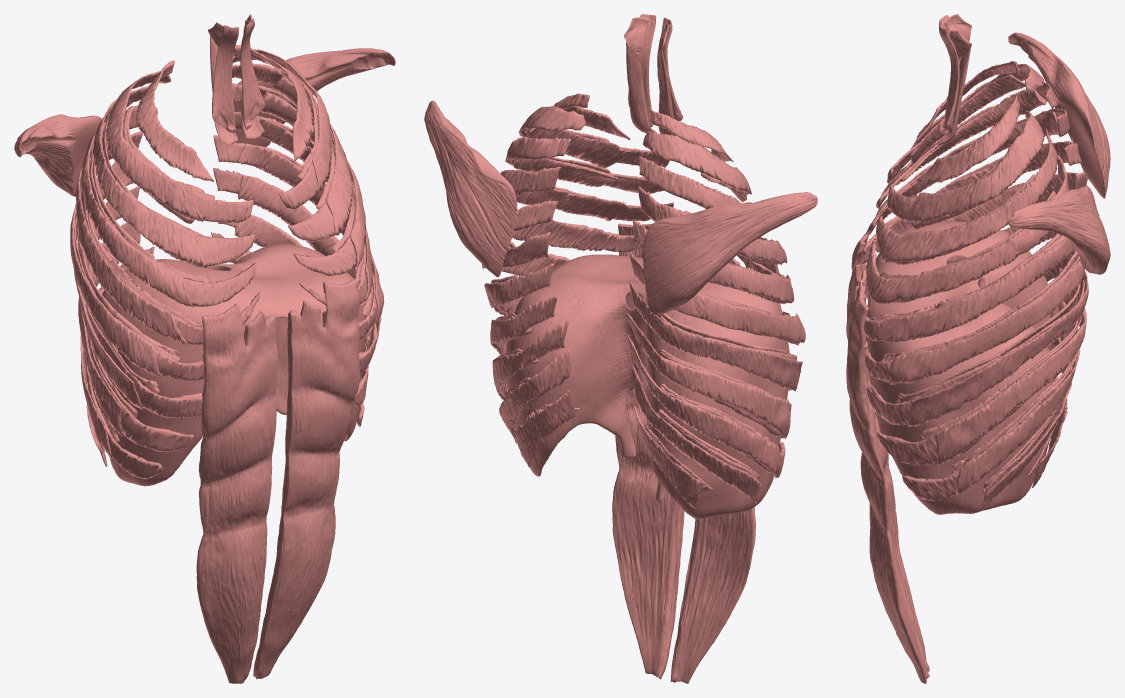
File: muscular.glb
The picture shows the model from 3 angles, left to right: view 1: azimuth 30°, elevation 25°; view 2: azimuth 150°, elevation 25°; view 3: azimuth 270°, elevation 25°; orthographic projection. The views are drawn at different scales.
Parts seen in each view (by area): view 1: FMA9756, FMA13377, FMA13378, FMA9757, FMA13295, FMA9758, FMA32547, FMA32548, FMA13346, FMA13347; view 2: FMA9756, FMA13295, FMA13378, FMA9758, FMA32547, FMA13377, FMA32548, FMA9757, FMA13351, FMA13347, FMA13350, FMA13346 (+1 smaller); view 3: FMA9756, FMA9758, FMA13295, FMA9757, FMA13378, FMA32547, FMA32548, FMA13377, FMA13347, FMA13351.
Part boxes in pixels (x1,y1,x2,y2): FMA9756: [70, 45, 384, 466]; FMA13377: [196, 303, 277, 683]; FMA13378: [253, 279, 359, 679]; FMA9757: [74, 79, 377, 479]; FMA13295: [100, 244, 366, 486]; FMA9758: [76, 70, 374, 442]; FMA32547: [14, 114, 101, 196]; FMA32548: [234, 48, 395, 146]; FMA13346: [212, 25, 238, 132]; FMA13347: [240, 18, 265, 129]; FMA9756: [482, 93, 805, 508]; FMA13295: [506, 254, 789, 519]; FMA13378: [612, 223, 684, 679]; FMA9758: [490, 128, 798, 492]; FMA32547: [642, 192, 817, 315]; FMA13377: [670, 257, 779, 683]; FMA32548: [424, 100, 517, 277]; FMA9757: [495, 129, 797, 493]; FMA13351: [626, 41, 653, 132]; FMA13347: [628, 14, 656, 127]; FMA13350: [658, 49, 675, 135]; FMA13346: [657, 17, 683, 120]; FMA9756: [871, 61, 1088, 510]; FMA9758: [872, 75, 1080, 487]; FMA13295: [866, 221, 1054, 514]; FMA9757: [855, 74, 1084, 501]; FMA13378: [846, 285, 929, 683]; FMA32547: [1008, 32, 1110, 198]; FMA32548: [1008, 185, 1110, 274]; FMA13377: [846, 234, 929, 671]; FMA13347: [939, 26, 959, 134]; FMA13351: [937, 48, 970, 146].
Size of the model in its own units: 0.3786 by 0.6277 by 0.2293.
